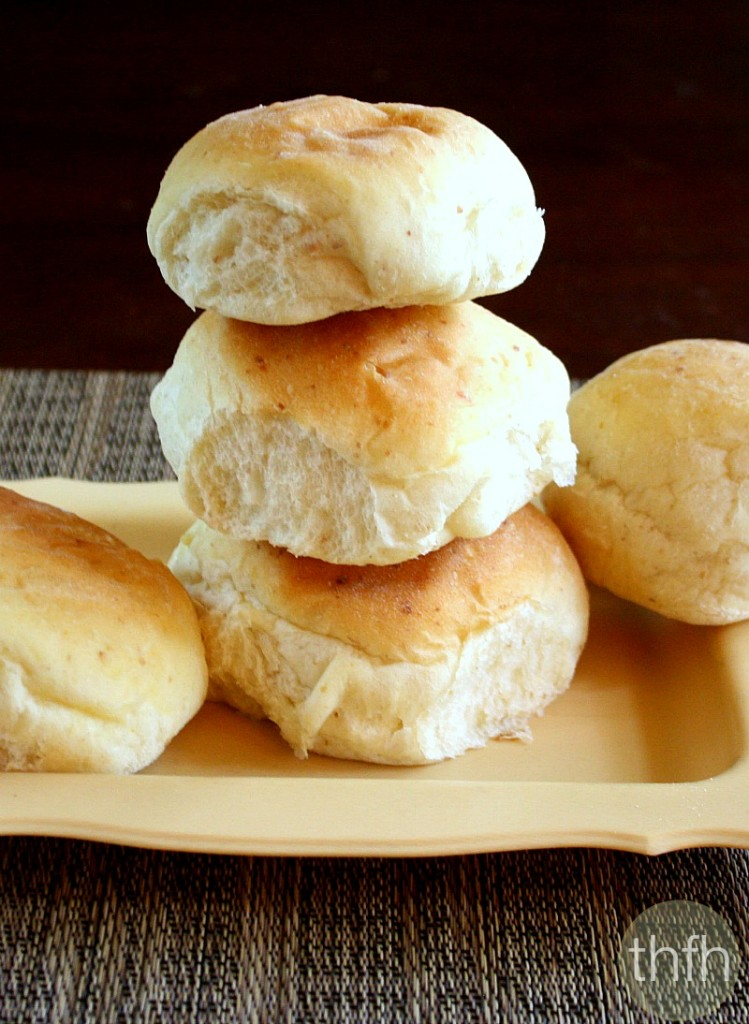hamburger_buns: (135, 290, 620, 544), (154, 83, 563, 334), (194, 496, 607, 742), (553, 329, 749, 593)
